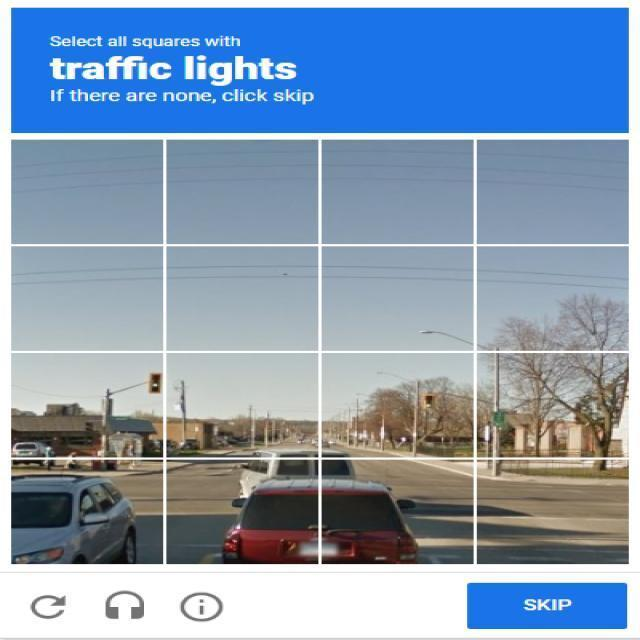traffic-lights: (416, 388, 445, 411), (145, 373, 165, 395)
